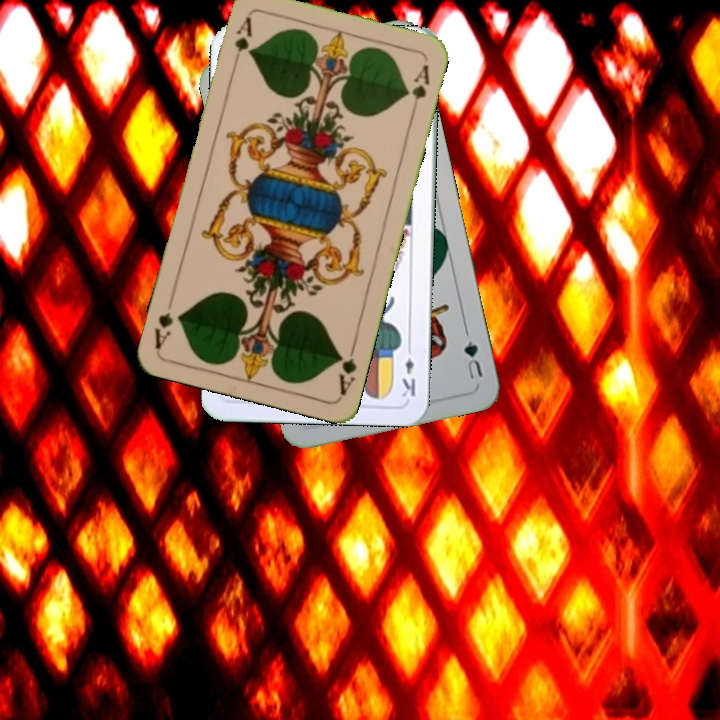EK: (398, 341, 418, 400)
GA: (333, 339, 360, 398), (228, 13, 255, 70)
GU: (459, 336, 486, 382)
